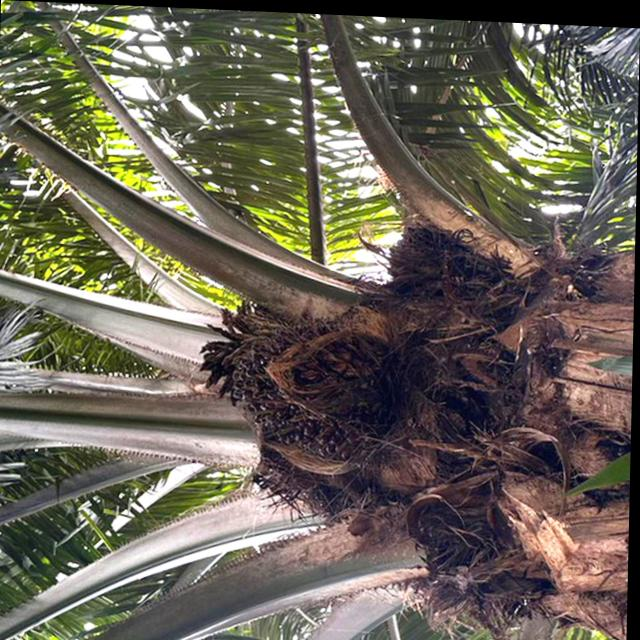almost: (225, 311, 395, 464)
